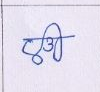i_matra: (48, 23, 66, 62)
